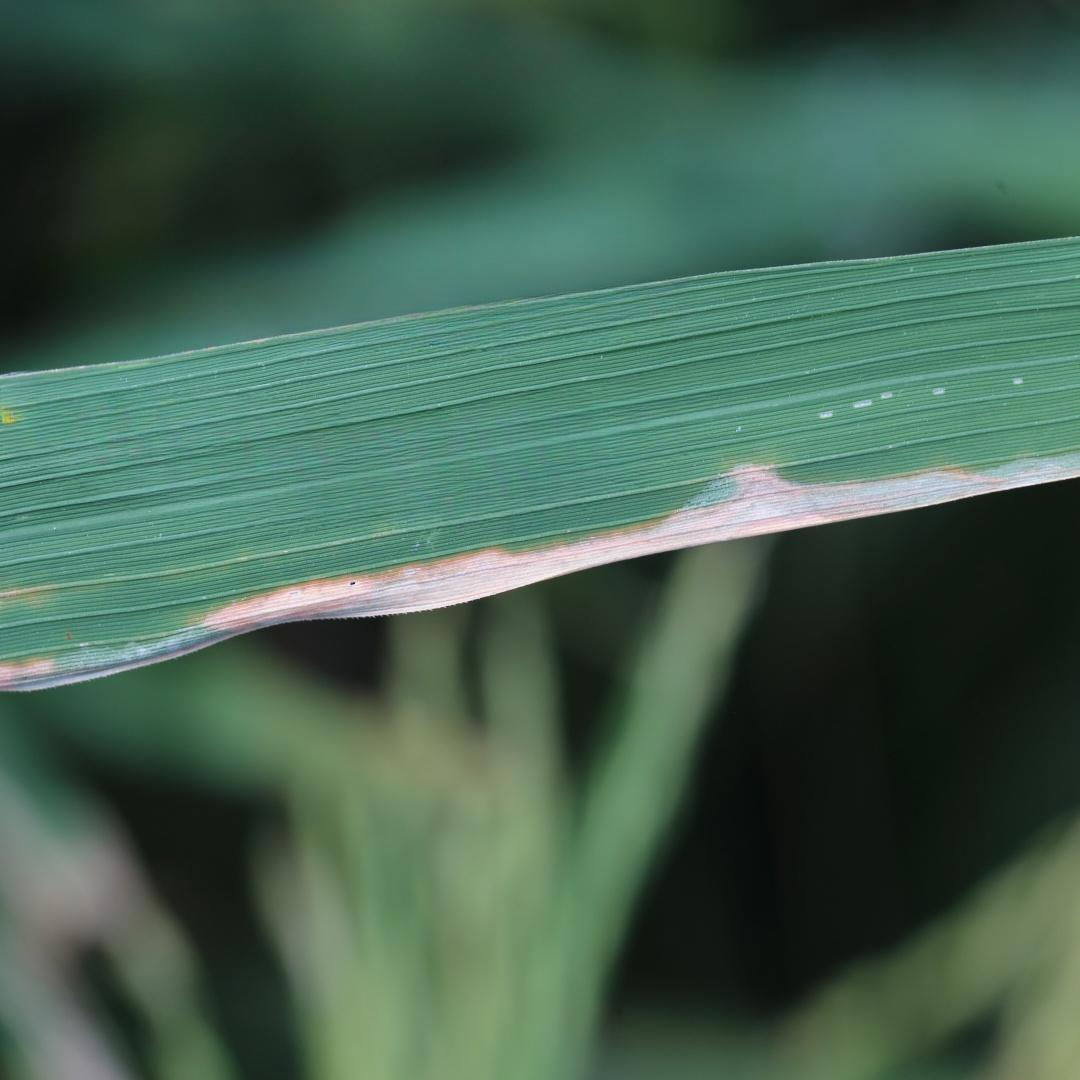BLB: (202, 463, 1079, 631)
LEAF: (0, 238, 1079, 690)
